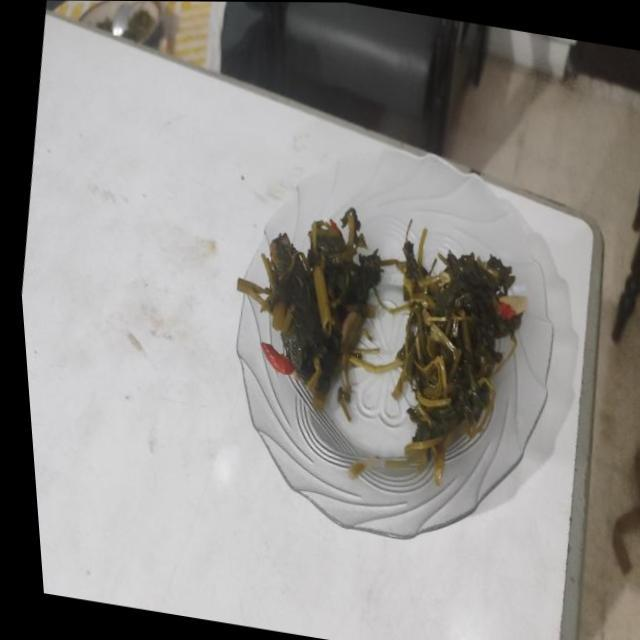tumis_kangkung: (392, 229, 521, 485), (237, 208, 390, 421)
